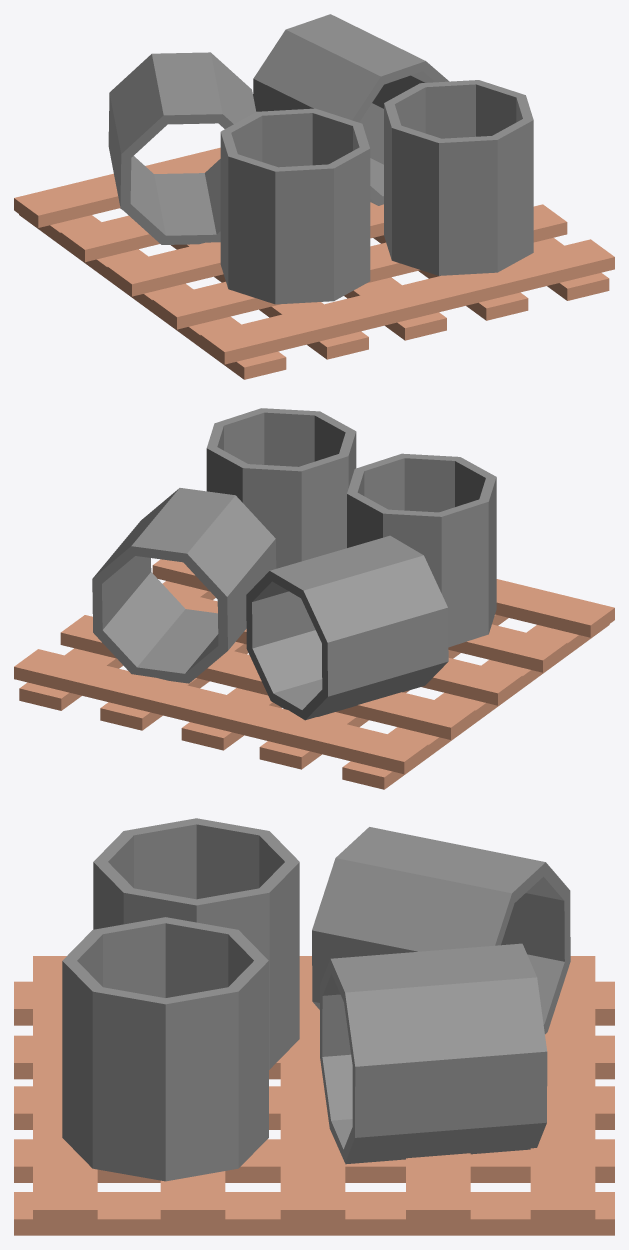
The model's file is decor_plank_1.glb.
3 views of the same model, one above another, from view 1: azimuth 30°, elevation 25°; view 2: azimuth 150°, elevation 25°; view 3: azimuth 270°, elevation 25° (orthographic). The views are drawn at different scales.
Parts seen in each view (by area): view 1: Circle.003, Cube.009; view 2: Circle.003, Cube.009; view 3: Circle.003, Cube.009.
Boxes of the visible parts, bbox=[...] form: Circle.003: bbox=[108, 14, 533, 304]; Cube.009: bbox=[14, 147, 614, 379]; Circle.003: bbox=[92, 408, 496, 720]; Cube.009: bbox=[14, 559, 614, 789]; Circle.003: bbox=[62, 818, 570, 1181]; Cube.009: bbox=[14, 956, 614, 1235].
Size of the model in its own units: 6.78 by 2.67 by 6.78.
